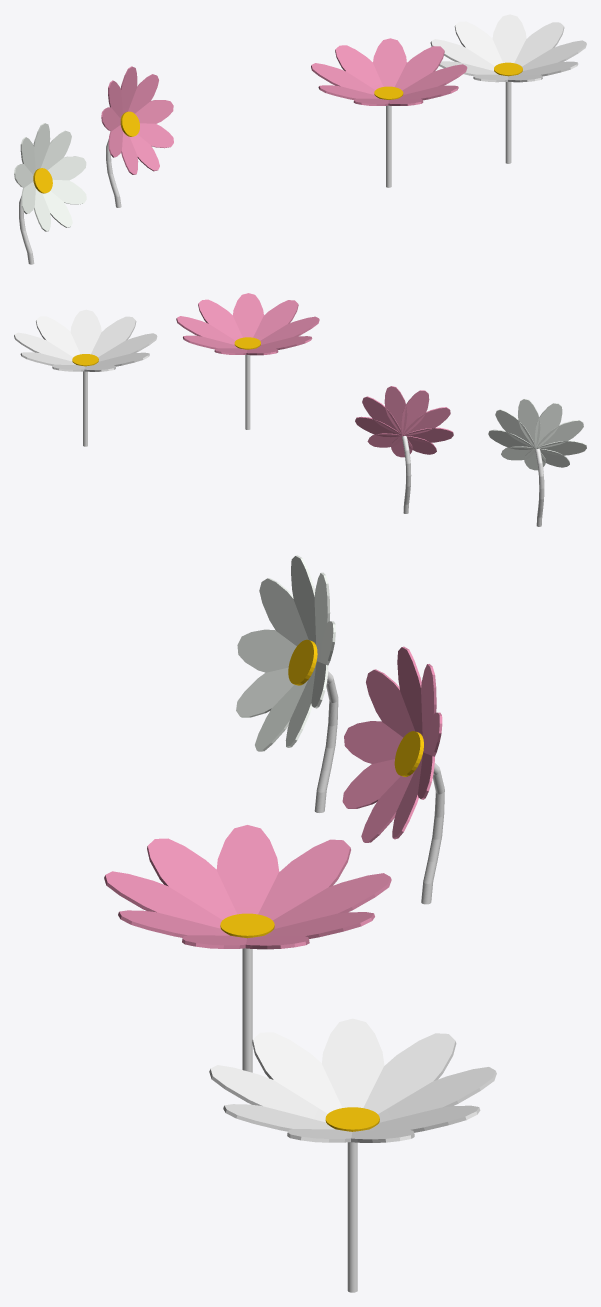
File: florblender.fbx
3 renders of one model, top to bottom at view 1: azimuth 30°, elevation 25°; view 2: azimuth 150°, elevation 25°; view 3: azimuth 270°, elevation 25°, orthographic. The views are drawn at different scales.
Visible parts, largest first — view 1: petalos, petalos.002, petalos.003, petalos.001, tallo.002, tallo, centro.001, centro.003, tallo.003, tallo.001; view 2: petalos.002, petalos, petalos.003, petalos.001, tallo, tallo.003, tallo.001, tallo.002; view 3: petalos.002, petalos, petalos.001, petalos.003, tallo.002, tallo.001, tallo.003, tallo, centro, centro.002, centro.003, centro.001.
Part boxes in pixels (x1,y1,x2,y2): petalos: (311, 38, 467, 105); petalos.002: (430, 14, 586, 82); petalos.003: (14, 123, 86, 231); petalos.001: (101, 66, 173, 174); tallo.002: (505, 81, 511, 163); tallo: (386, 105, 391, 187); centro.001: (120, 111, 139, 136); centro.003: (33, 168, 52, 193); tallo.003: (19, 196, 34, 264); tallo.001: (106, 139, 121, 207); petalos.002: (14, 309, 157, 371); petalos: (176, 293, 319, 355); petalos.003: (488, 399, 586, 470); petalos.001: (355, 386, 453, 457); tallo: (245, 355, 250, 429); tallo.003: (535, 449, 544, 526); tallo.001: (402, 436, 411, 513); tallo.002: (83, 371, 87, 446); petalos.002: (209, 1018, 496, 1142); petalos: (104, 825, 391, 949); petalos.001: (342, 646, 442, 842); petalos.003: (236, 555, 335, 751); tallo.002: (347, 1142, 357, 1292); tallo.001: (421, 763, 444, 904); tallo.003: (314, 671, 338, 812); tallo: (242, 948, 252, 1072); centro: (220, 913, 274, 938); centro.002: (325, 1107, 379, 1131); centro.003: (288, 639, 317, 685); centro.001: (394, 731, 423, 776).
Size of the model in its own units: 3934 by 1076 by 1250.
Materials: 1 (1 with a texture image).
